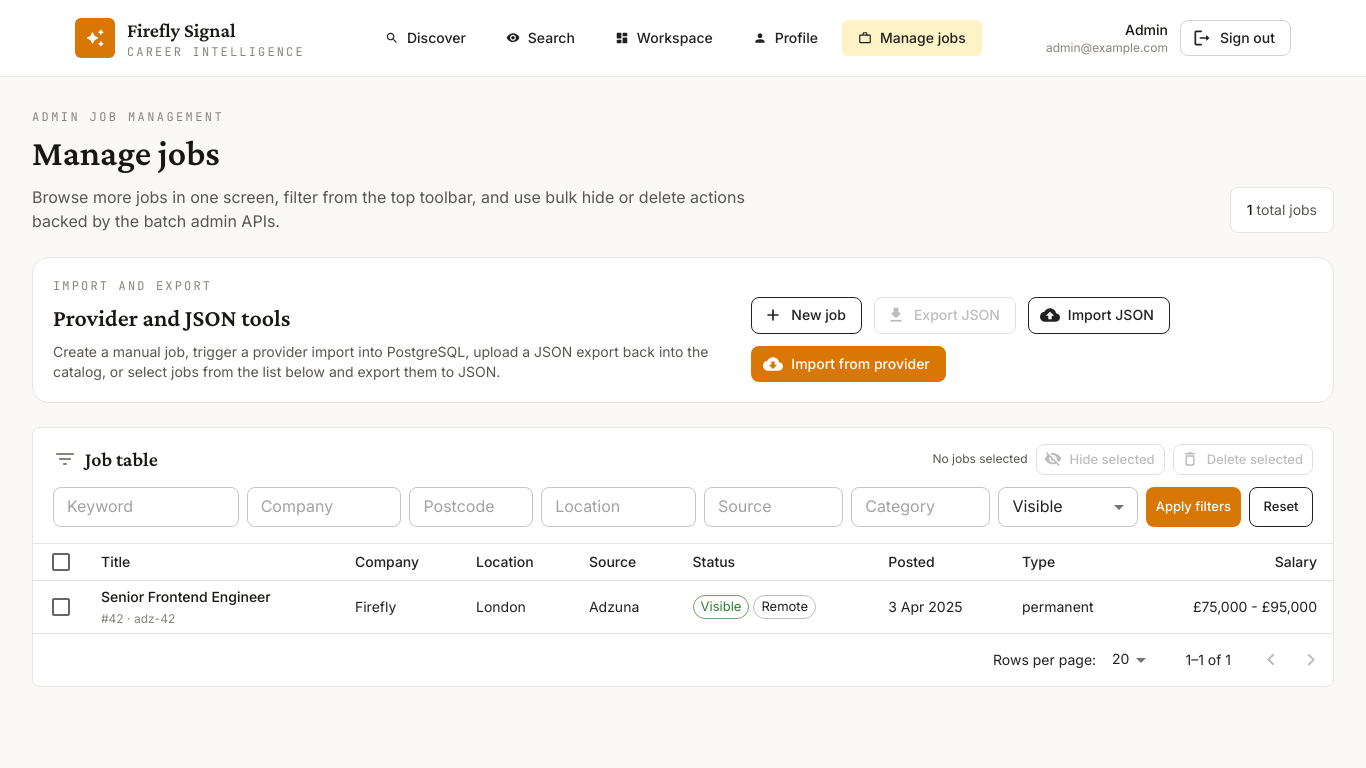
JobsListView › loads jobs into the admin table and can hide selected rows
Expected: the text "Senior Frontend Engineer" is shown, [101,588,271,605]
Click the checkbox named "Select job 42".
click(61, 607)  # box [49,595,73,619]
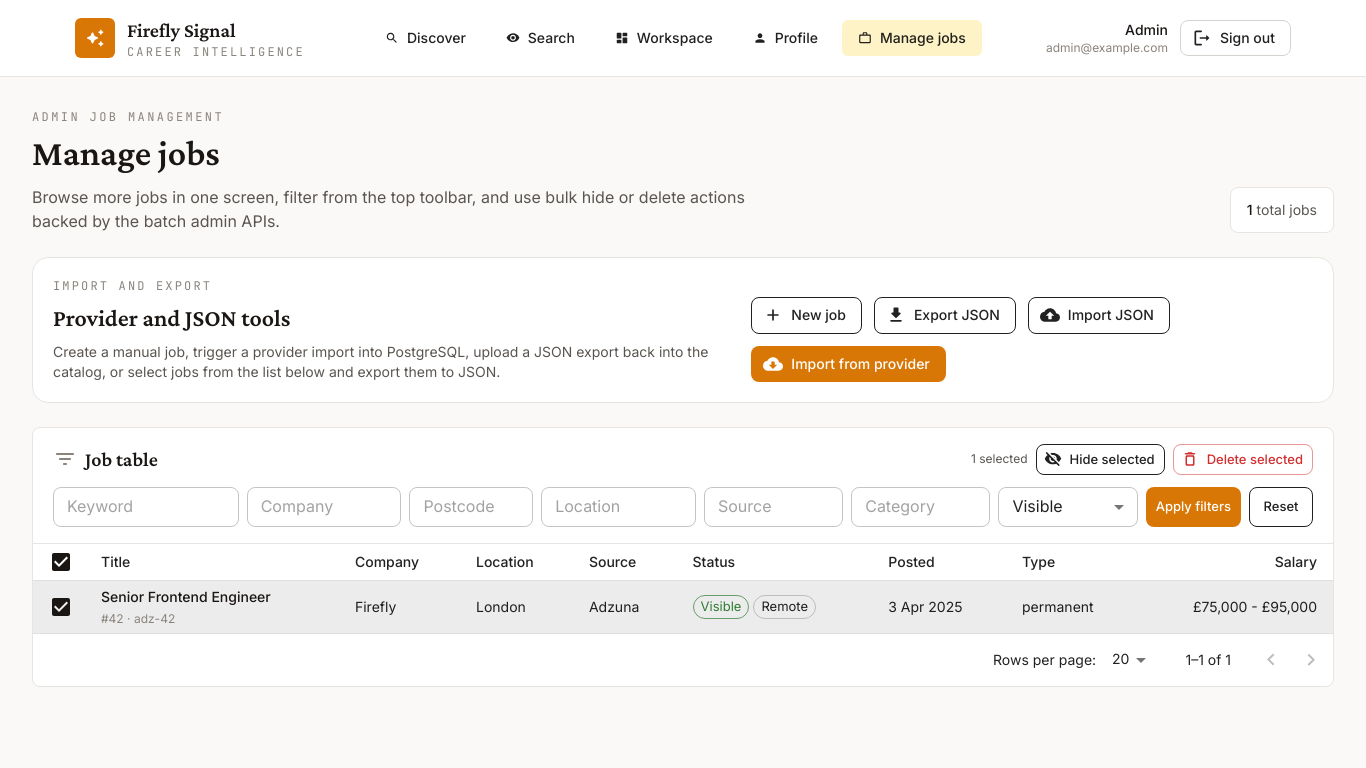
Click the button "Hide selected".
click(1100, 459)  # box [1036,444,1165,475]
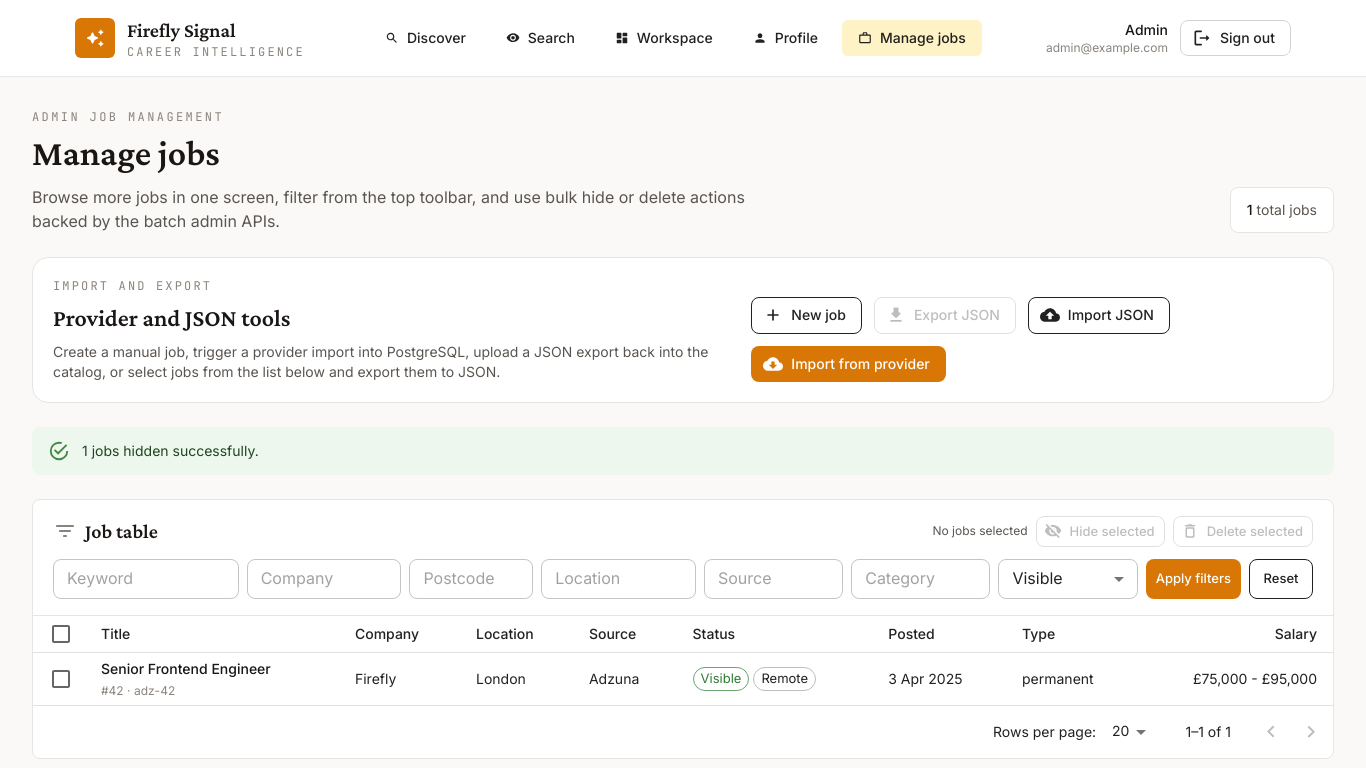
Expected: the text "1 total jobs" is shown, [1230,187,1334,233]
Result: the text "1 jobs hidden successfully." is shown at [82,442,259,459]
